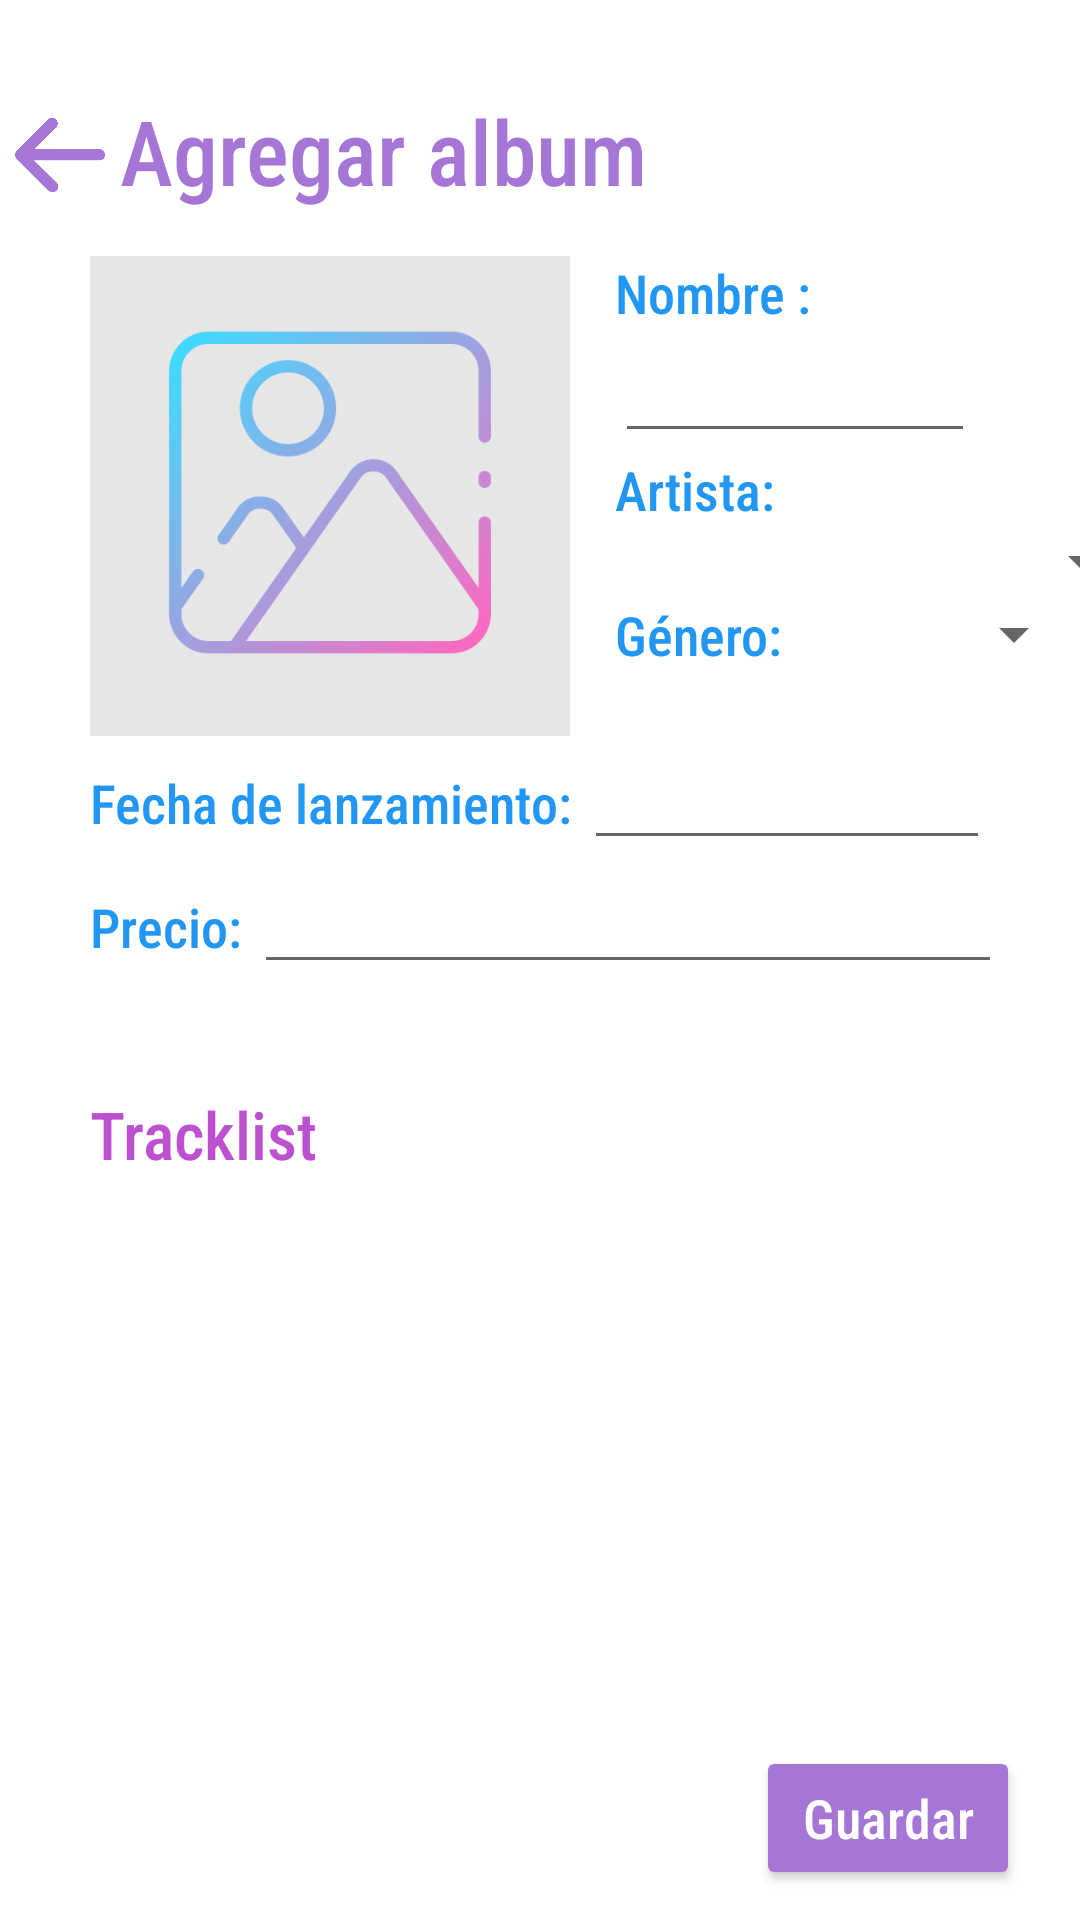

Where icons sit on this 1080x1920 app screen, as (x1, y1, x2, y2):
flecha: (15, 118, 105, 192)
imgdefecto: (169, 331, 491, 654)
